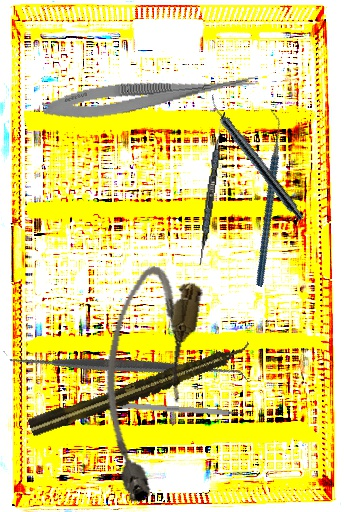Cannula: (80, 260, 207, 510)
Chopper: (198, 108, 334, 288)
Handpiece: (26, 337, 255, 439), (202, 93, 309, 223)
Hook Surgical: (118, 402, 255, 418)
Micro Scissor: (40, 61, 261, 126)
Spatula Surgical: (2, 243, 250, 490), (197, 111, 226, 266)
